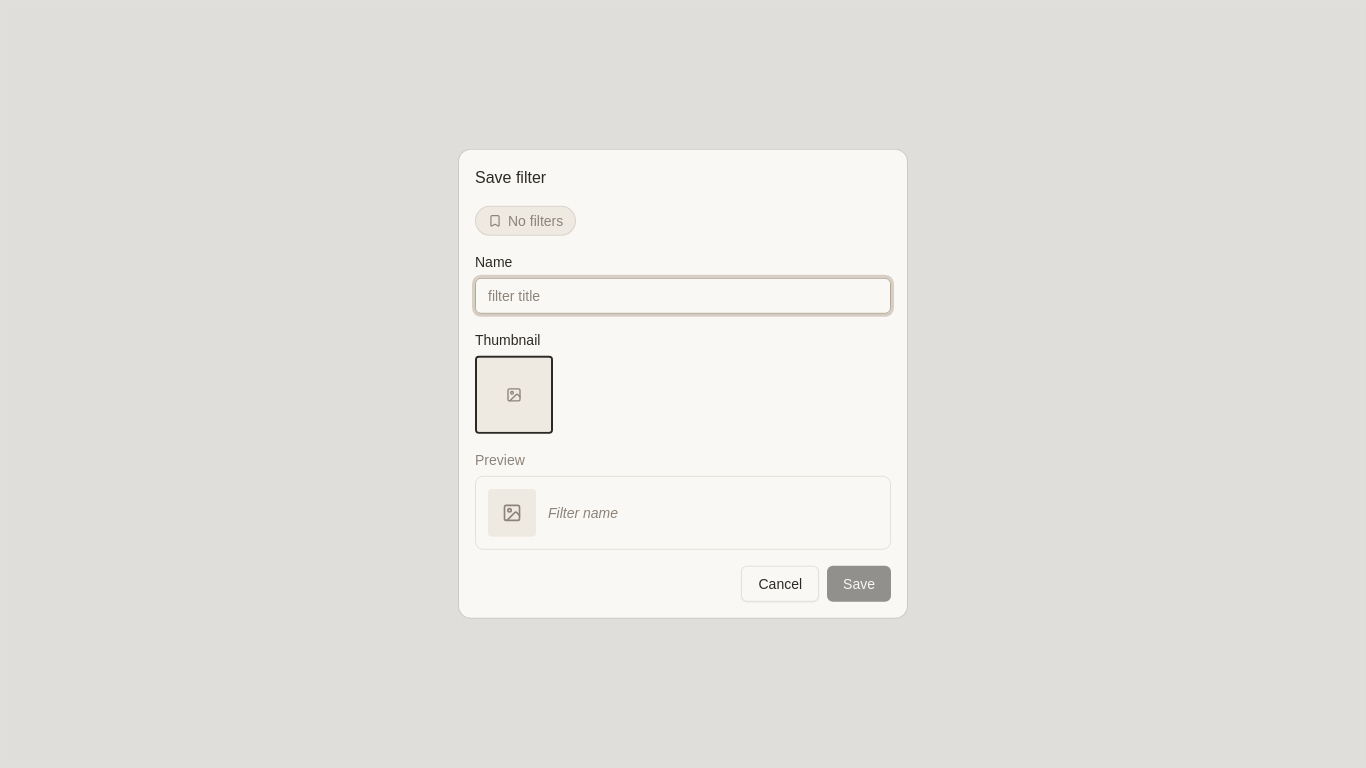
Scenario: SaveFilterModal — duplicate name › shows inline name error and keeps modal open when server returns 422 duplicate
Type "My Filter" into the field labelled "Name" at (683, 296), box 475,278 -> 891,314
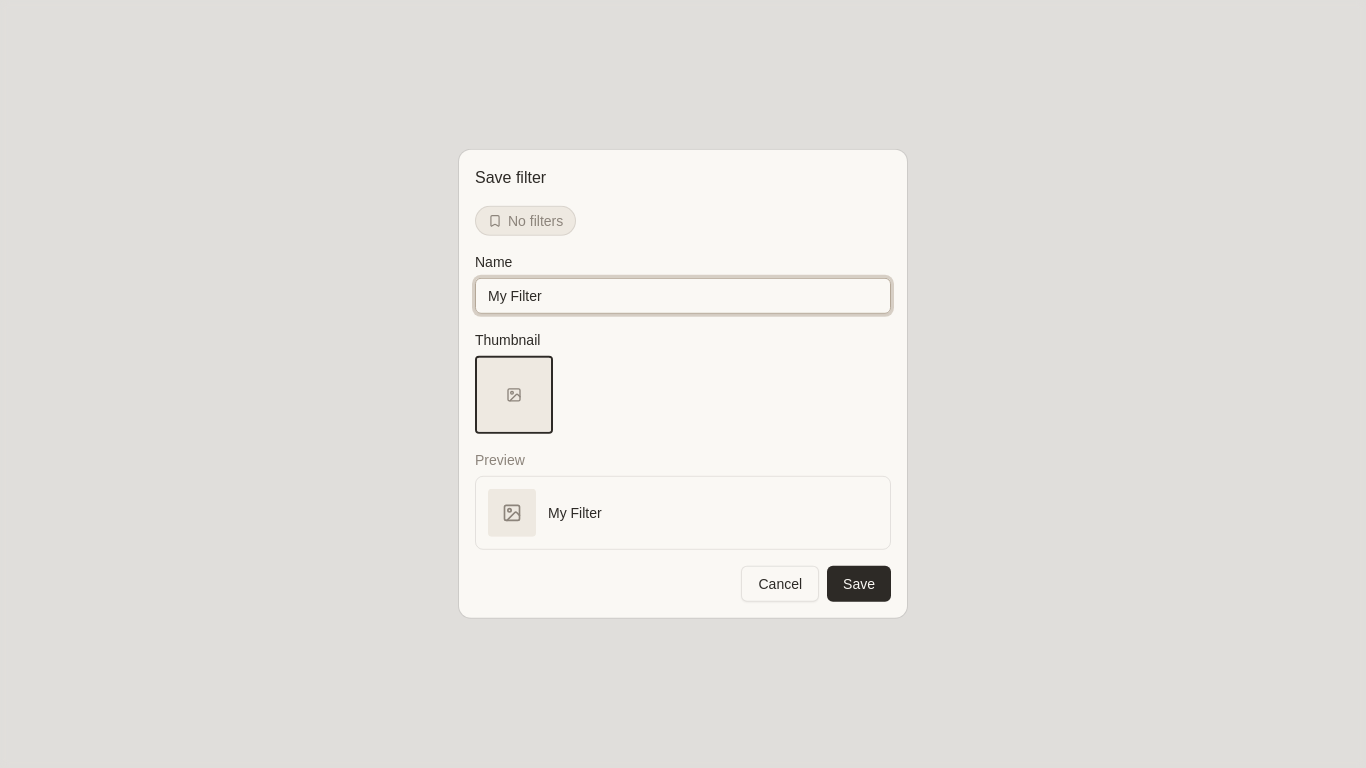
Click the button "Save" at (859, 584), box 827,566 -> 891,602
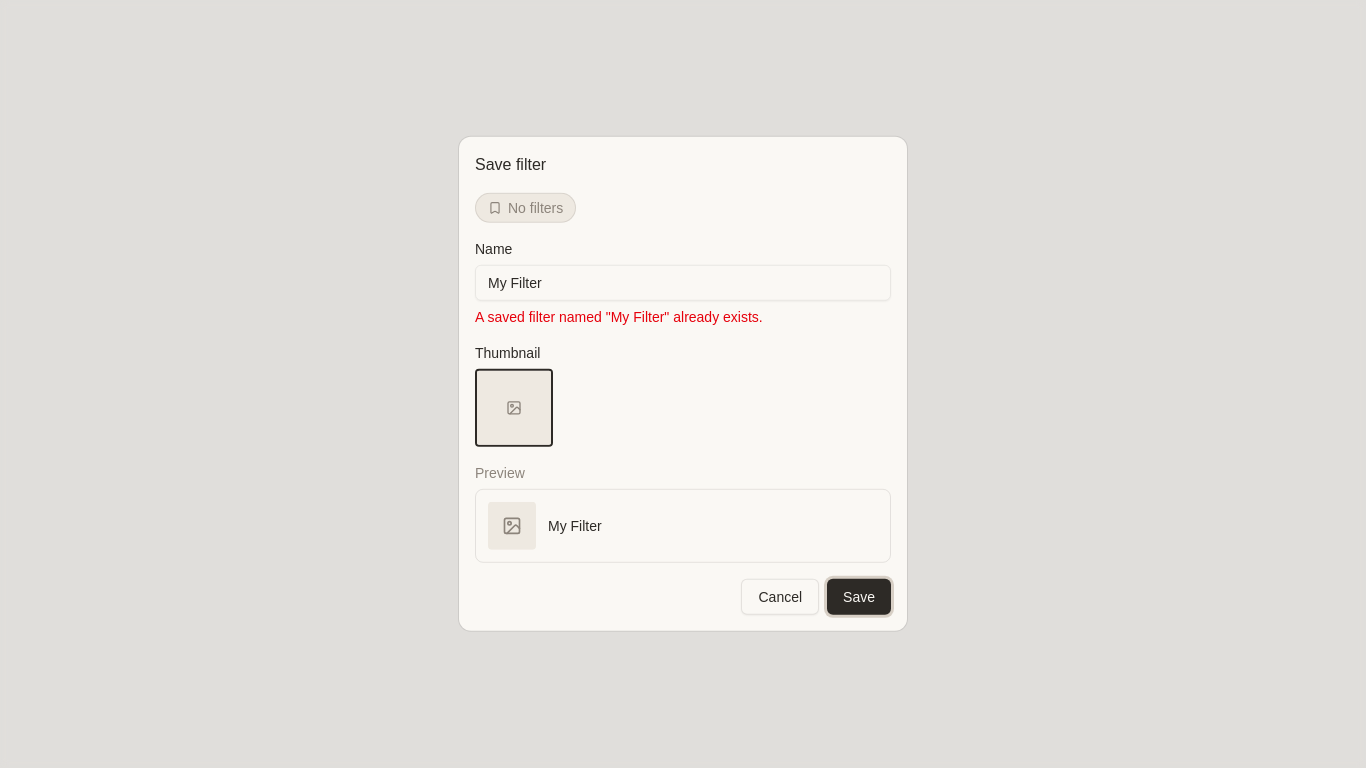
expect the message shows "already exists": met, box 475,309 -> 763,325
